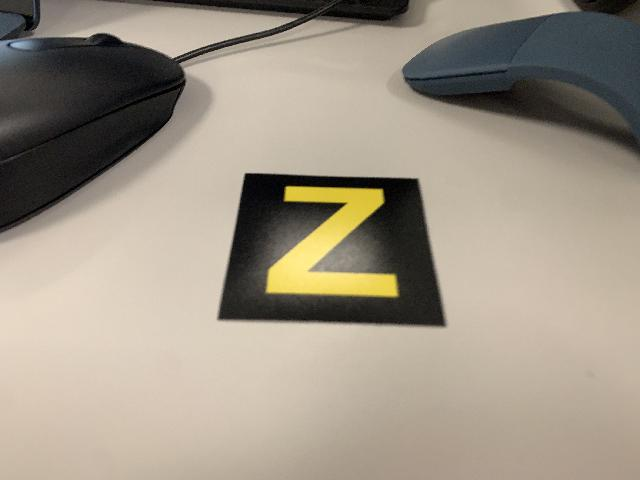z: (214, 170, 449, 329)
